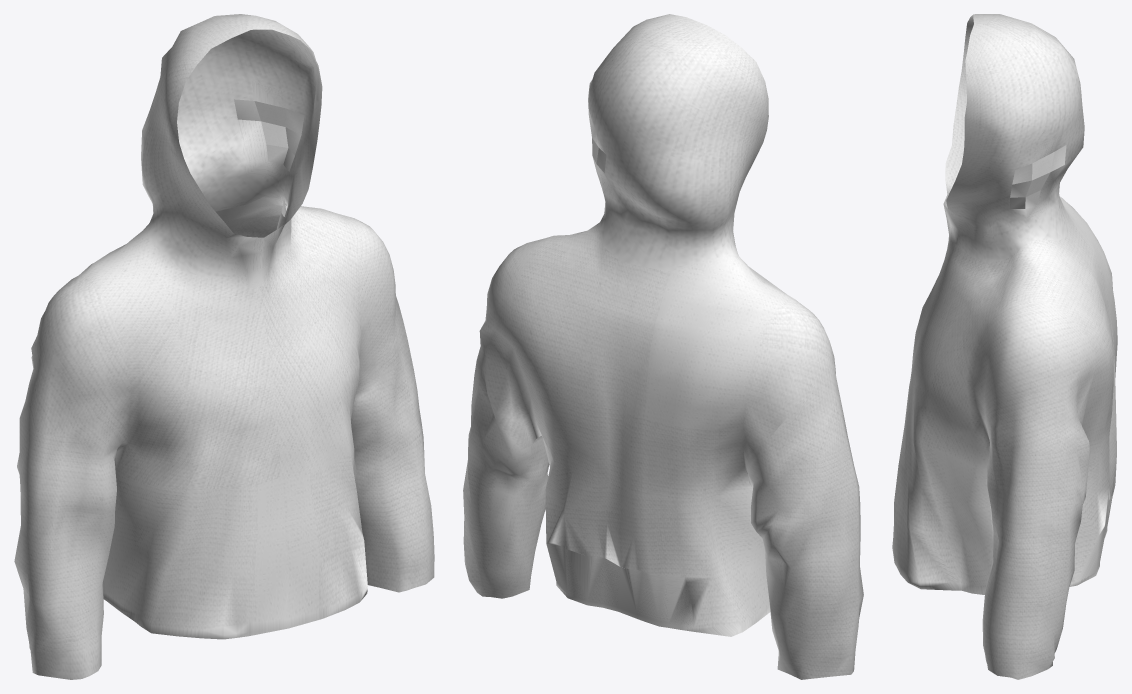
Rendered from uploads_files_3038777_cloth.glb.
The picture shows the model from 3 angles, left to right: view 1: azimuth 30°, elevation 25°; view 2: azimuth 150°, elevation 25°; view 3: azimuth 270°, elevation 25°; orthographic projection. The views are drawn at different scales.
Visible parts, largest first — view 1: test; view 2: test; view 3: test.
Part boxes in pixels (x1,y1,x2,y2): test: (14,14,434,679); test: (463,14,863,679); test: (892,14,1117,679).
Bounding box in the file's own units: 72.2 × 106 × 37.74.
Materials: 4 (2 with a texture image).
